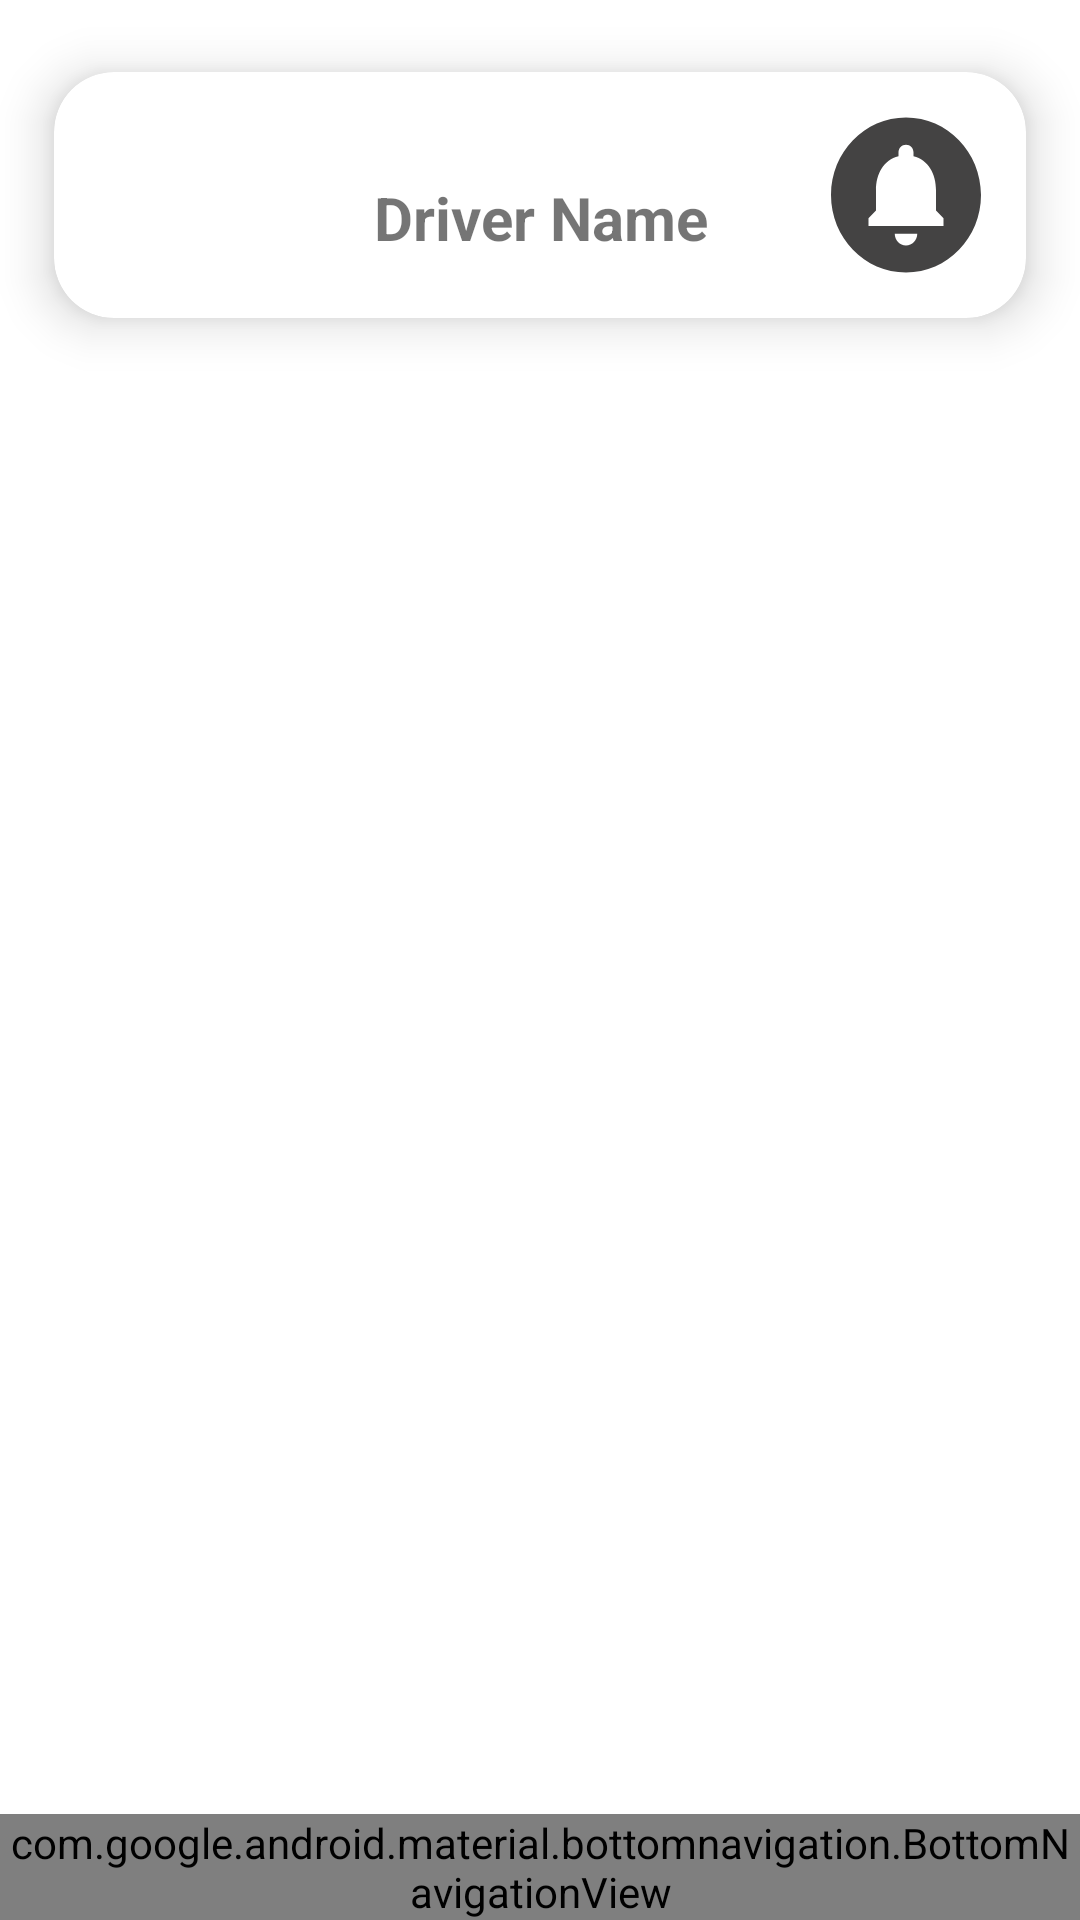

Screen size 1080*1920. Icon name, then its box in pixels as detection(x1, y1, x2, y2):
notify: detection(831, 117, 981, 273)
